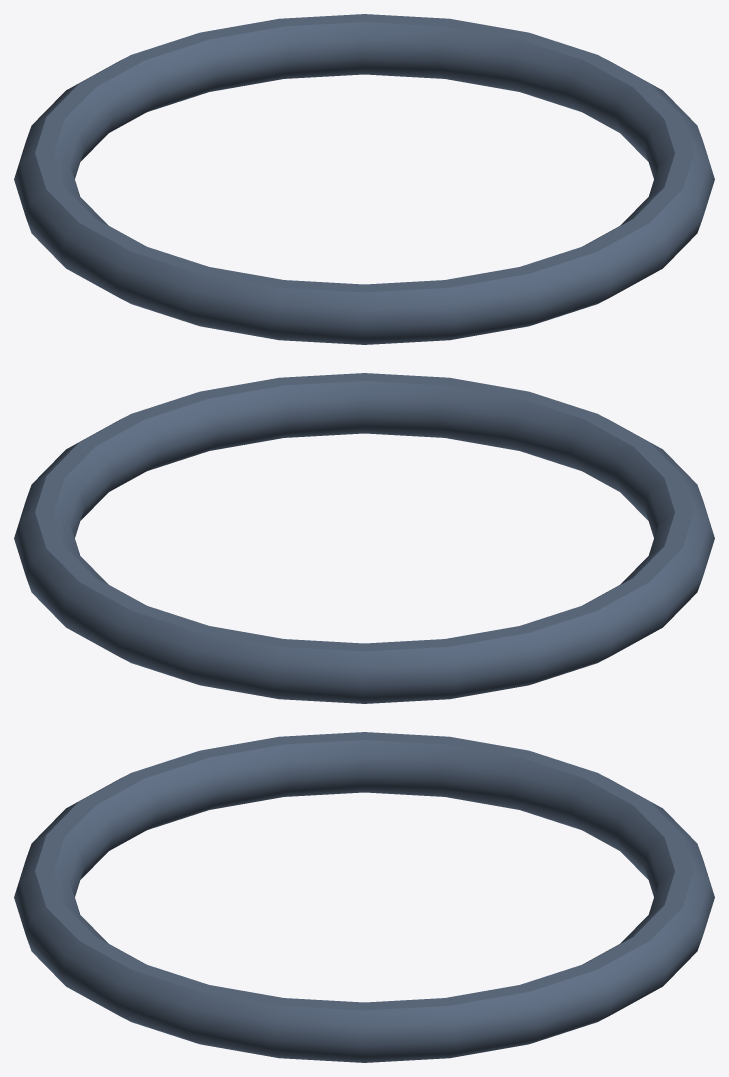
Rendered from Bottom_Leggings.fbx.
3 views of the same model, one above another, from view 1: azimuth 30°, elevation 25°; view 2: azimuth 150°, elevation 25°; view 3: azimuth 270°, elevation 25° (orthographic).
Parts seen in each view (by area): view 1: Legging_Band; view 2: Legging_Band; view 3: Legging_Band.
Boxes of the visible parts, bbox=[...] form: Legging_Band: bbox=[14, 14, 714, 344]; Legging_Band: bbox=[14, 373, 714, 703]; Legging_Band: bbox=[14, 732, 714, 1062].
Size of the model in its own units: 46 by 3.8 by 46.
